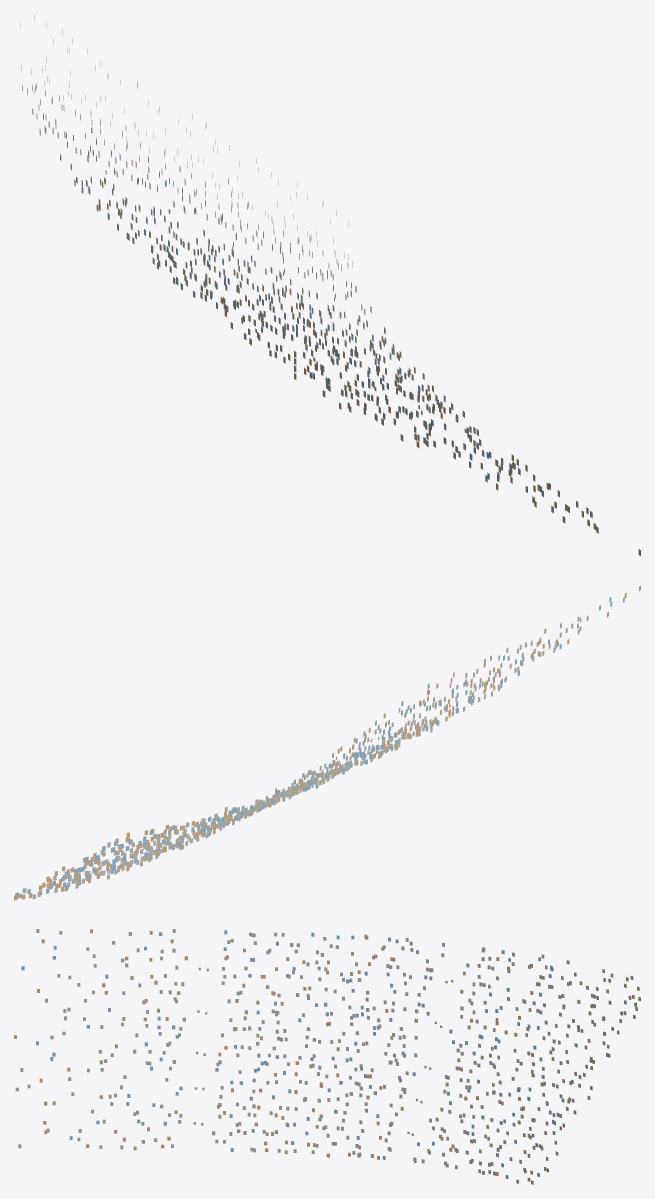
The model's file is UpperPhones4.obj.
3 renders of one model, top to bottom at view 1: azimuth 30°, elevation 25°; view 2: azimuth 150°, elevation 25°; view 3: azimuth 270°, elevation 25°, orthographic. The views are drawn at different scales.
Parts seen in each view (by area): view 1: UpperPhones4; view 2: UpperPhones4; view 3: UpperPhones4.
Boxes of the visible parts, x1,y1,x2,y2 form: UpperPhones4: [20, 15, 640, 556]; UpperPhones4: [14, 585, 640, 900]; UpperPhones4: [14, 929, 640, 1184].
Size of the model in its own units: 32.14 by 16.4 by 68.58.
1 material, 1 textured.
